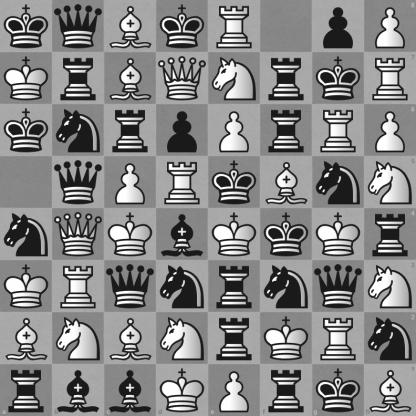B: (364, 364, 416, 416), (1, 313, 52, 364), (105, 1, 156, 52), (105, 53, 156, 104), (105, 313, 156, 364), (261, 157, 312, 208)
K: (156, 364, 209, 416), (1, 53, 52, 104), (1, 261, 52, 312), (105, 209, 156, 260), (209, 209, 260, 260), (261, 313, 312, 364), (313, 209, 364, 260)
N: (364, 156, 416, 209), (364, 260, 416, 312), (53, 313, 104, 364), (157, 313, 208, 364), (209, 53, 260, 104)
P: (364, 0, 416, 52), (364, 104, 416, 156), (209, 364, 260, 416), (105, 157, 156, 208), (209, 105, 260, 156)
Q: (53, 209, 104, 260), (157, 53, 208, 104)
R: (364, 52, 416, 104), (53, 261, 104, 312), (157, 157, 208, 208), (209, 1, 260, 52), (313, 105, 364, 156), (313, 313, 364, 364)
b: (52, 364, 104, 416), (104, 364, 156, 416), (157, 209, 208, 260)
board: (0, 0, 415, 415)
k: (312, 364, 364, 416), (1, 1, 52, 52), (1, 105, 52, 156), (157, 1, 208, 52), (209, 157, 260, 208), (261, 209, 312, 260), (313, 53, 364, 104)
n: (364, 312, 416, 364), (1, 209, 52, 260), (53, 105, 104, 156), (157, 261, 208, 312), (261, 261, 312, 312), (313, 157, 364, 208)
p: (157, 105, 208, 156), (313, 1, 364, 52)
q: (53, 1, 104, 52), (53, 157, 104, 208), (105, 261, 156, 312), (313, 261, 364, 312)
r: (0, 364, 52, 416), (260, 364, 312, 416), (364, 209, 416, 260), (53, 53, 104, 104), (105, 105, 156, 156), (209, 261, 260, 312), (209, 313, 260, 364), (261, 53, 312, 104), (261, 105, 312, 156)
